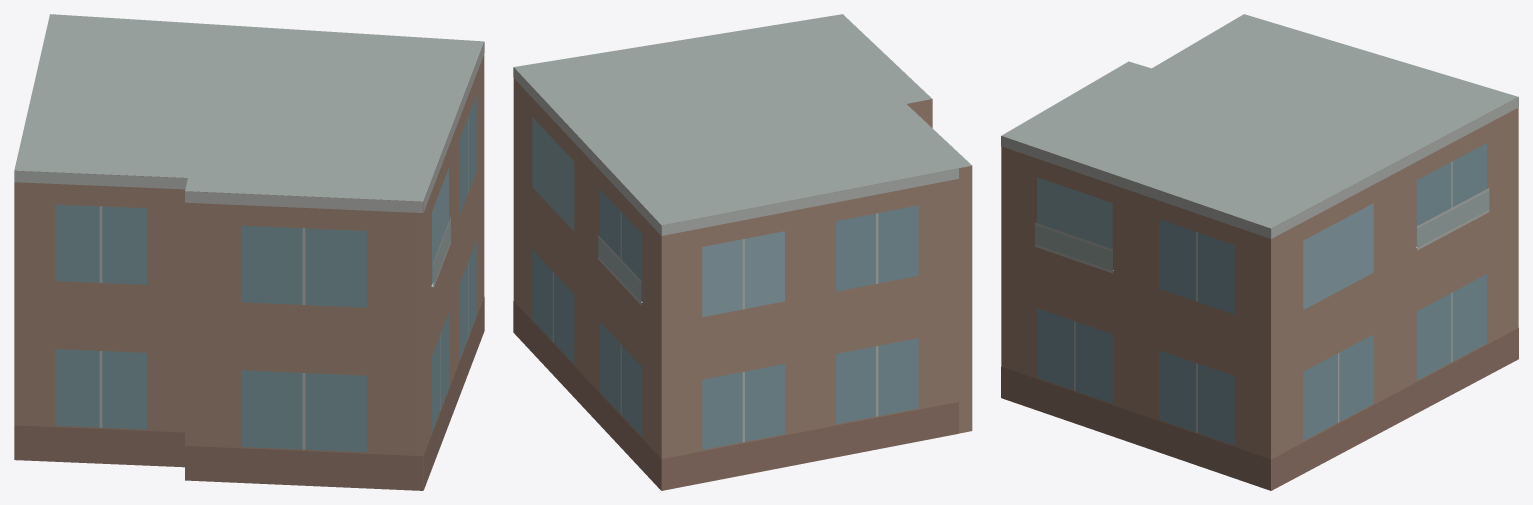
Rendered from survey-upis-32572306.glb.
3 views of the same model, side by side, from view 1: azimuth 30°, elevation 25°; view 2: azimuth 150°, elevation 25°; view 3: azimuth 270°, elevation 25° (orthographic). The views are drawn at different scales.
Parts seen in each view (by area): view 1: survey-upis-32572306.tmp; view 2: survey-upis-32572306.tmp; view 3: survey-upis-32572306.tmp.
Part boxes in pixels (x1,y1,x2,y2): survey-upis-32572306.tmp: (14, 14, 484, 490); survey-upis-32572306.tmp: (513, 14, 972, 490); survey-upis-32572306.tmp: (1001, 14, 1518, 490).
Bounding box in the file's own units: 10.71 × 6.1 × 10.92.
